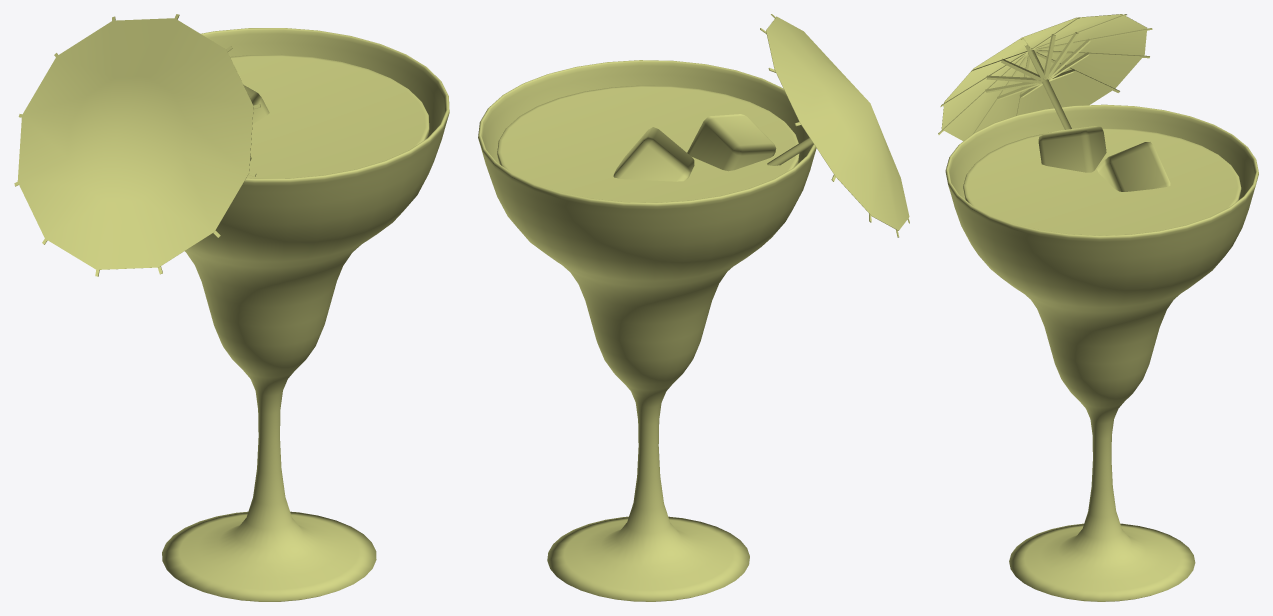
Rendered from tropical drink.fbx.
The picture shows the model from 3 angles, left to right: view 1: azimuth 30°, elevation 25°; view 2: azimuth 150°, elevation 25°; view 3: azimuth 270°, elevation 25°; orthographic projection. The views are drawn at different scales.
Parts seen in each view (by area): view 1: base; view 2: base; view 3: base.
Boxes of the visible parts, box(x1,y1,x2,y2) form: base: box(14, 14, 449, 601); base: box(478, 14, 909, 601); base: box(938, 14, 1258, 601).
Bounding box in the file's own units: 7.56 × 10.41 × 6.03.
